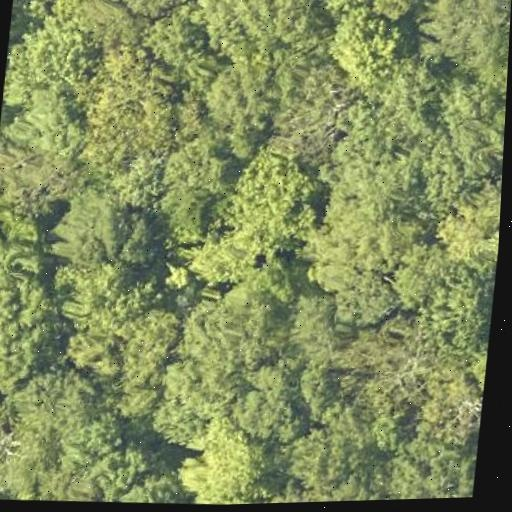tree-top: (0, 374, 151, 507), (312, 130, 431, 297), (173, 258, 342, 374), (81, 46, 188, 168), (339, 310, 460, 413), (55, 278, 173, 383), (4, 8, 100, 132), (220, 145, 318, 256), (0, 227, 64, 393), (269, 56, 364, 155), (281, 412, 382, 503), (173, 419, 276, 506), (48, 183, 137, 278), (158, 138, 237, 243), (323, 0, 413, 91), (198, 51, 287, 141), (380, 424, 479, 500), (189, 0, 314, 60), (228, 357, 308, 447), (151, 366, 234, 448), (420, 120, 502, 202), (420, 0, 512, 68), (423, 262, 497, 335), (183, 239, 261, 293), (119, 460, 185, 505), (64, 0, 187, 20), (484, 35, 509, 132), (463, 327, 490, 416), (0, 372, 12, 495), (160, 263, 198, 296), (486, 226, 500, 288)
